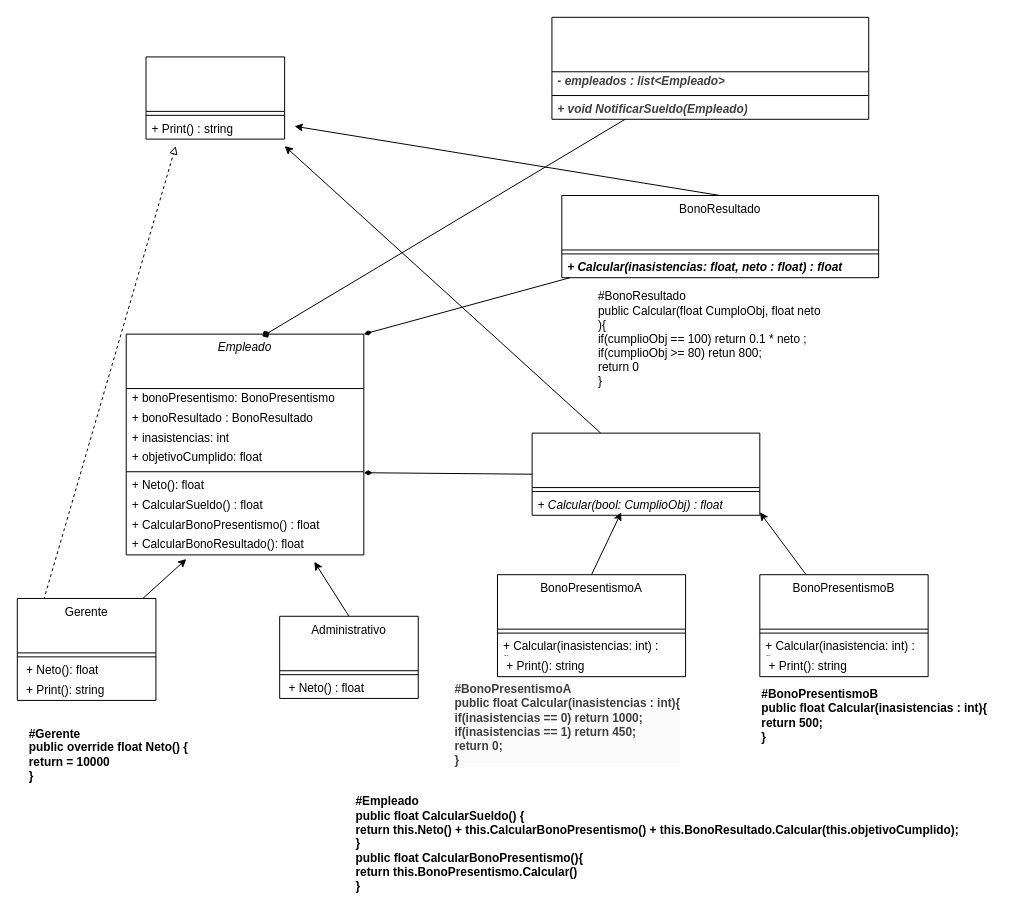
The diagram is 1025 pixels wide and 916 high, and some of its shapes have lost their labels. The box of each missing label's shape, as (x1, y1, x2, y2) in pixels:
<<i>> Imprimible: (145, 56, 285, 139)
BonoPresentismo: (531, 432, 760, 515)
Empresa: (551, 16, 869, 119)
